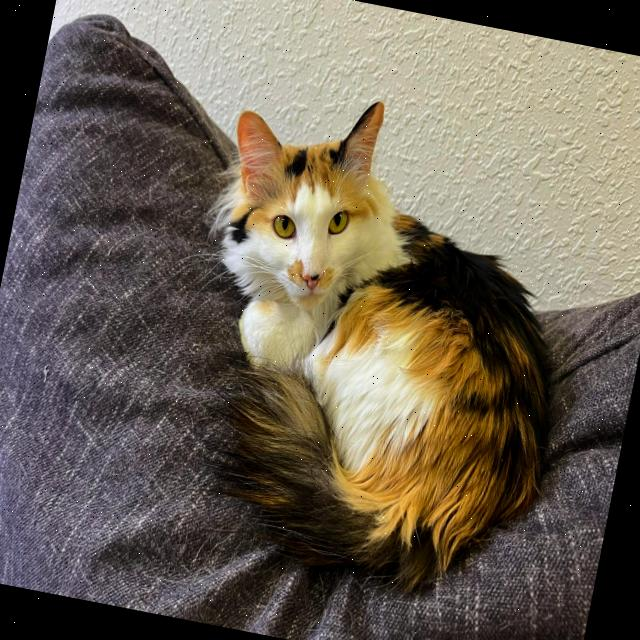domestic_long_hair_cat: (190, 68, 426, 342)
